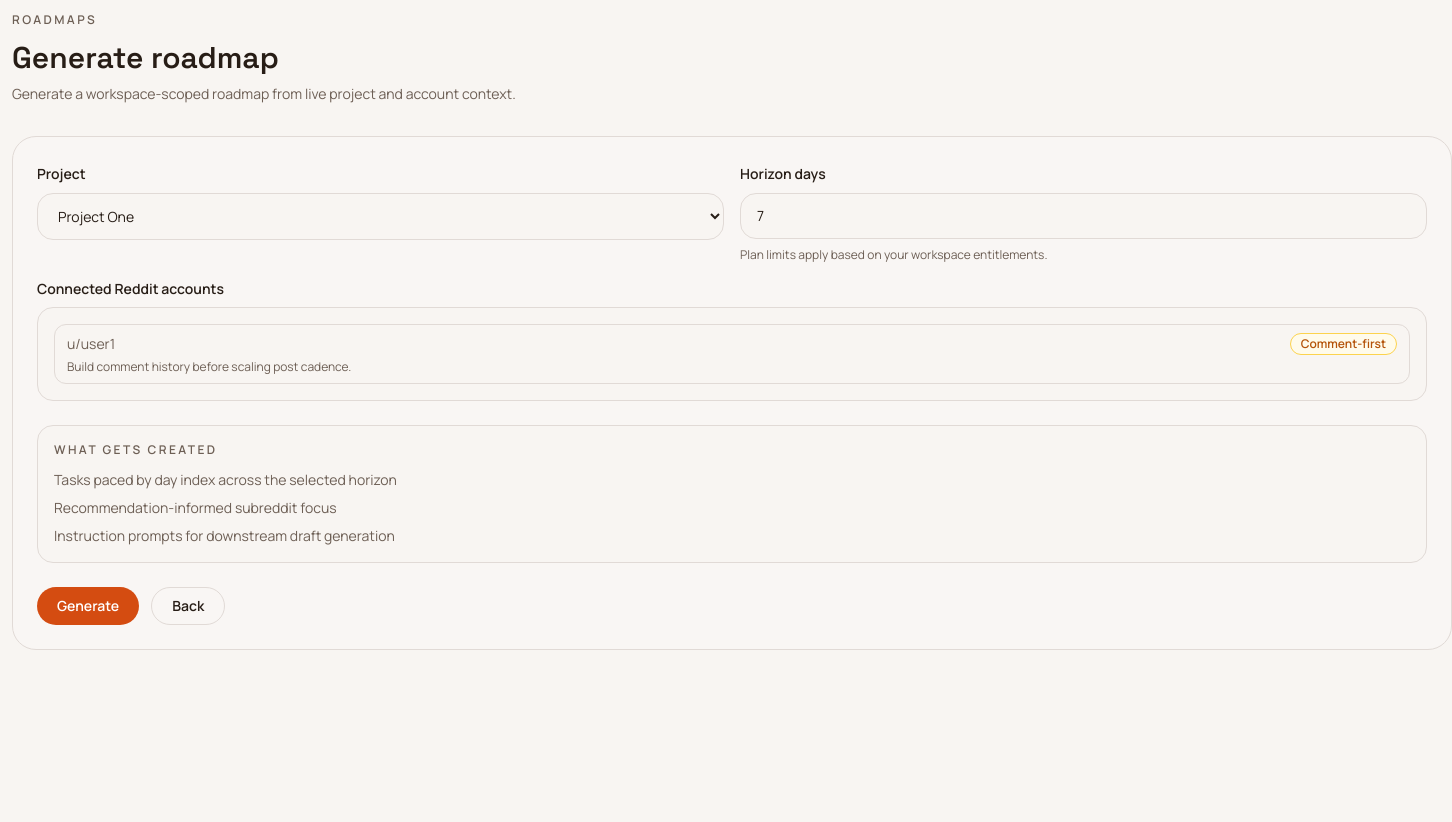
Test case: RoadmapGenerateForm › shows plan-limit message on 403 response
Step 1. Click the button "Generate" → (88, 606), box [37,587,139,625]
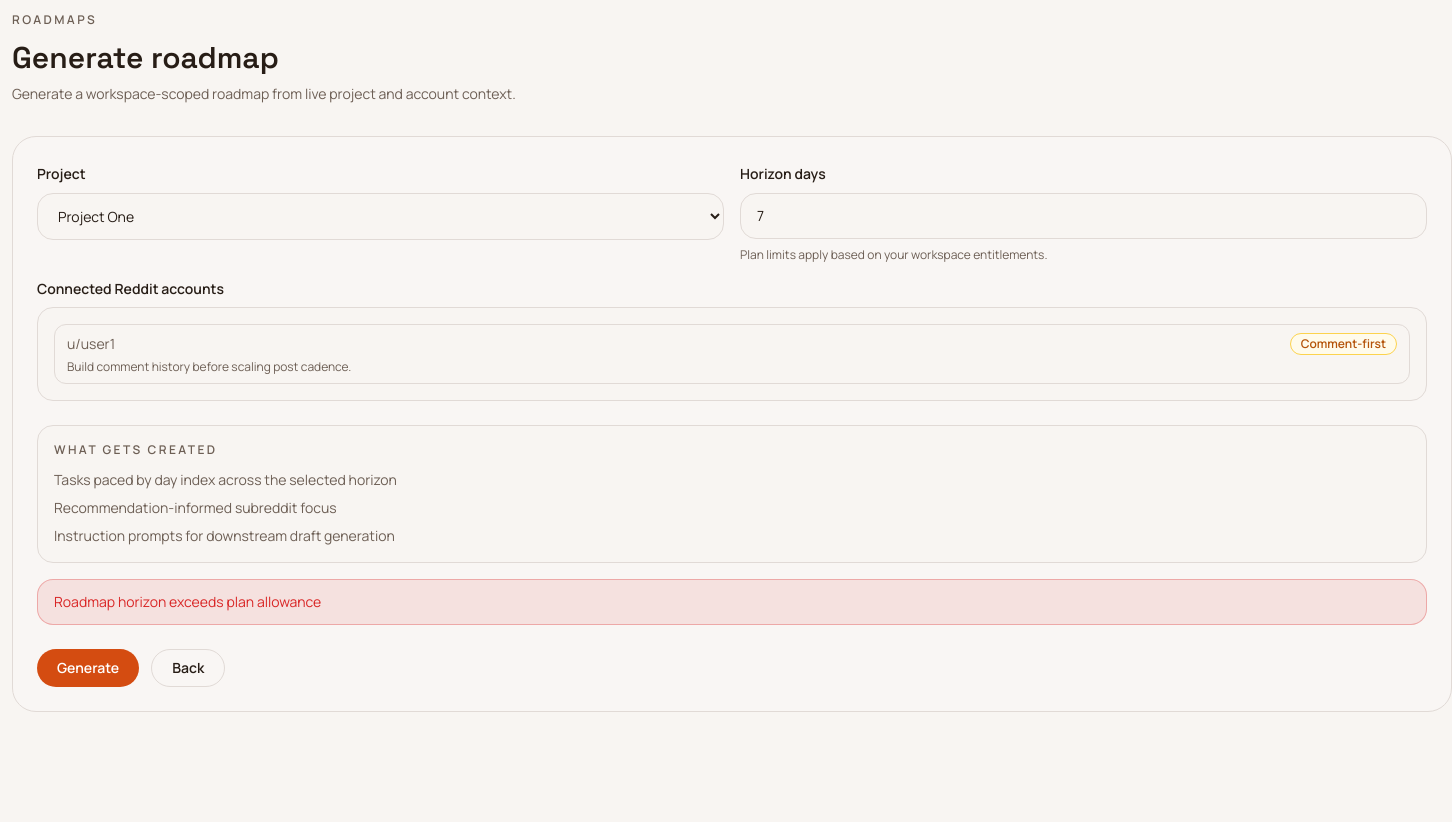
Result: the text "Roadmap horizon exceeds plan allowance" is shown at [37,579,1427,625]
